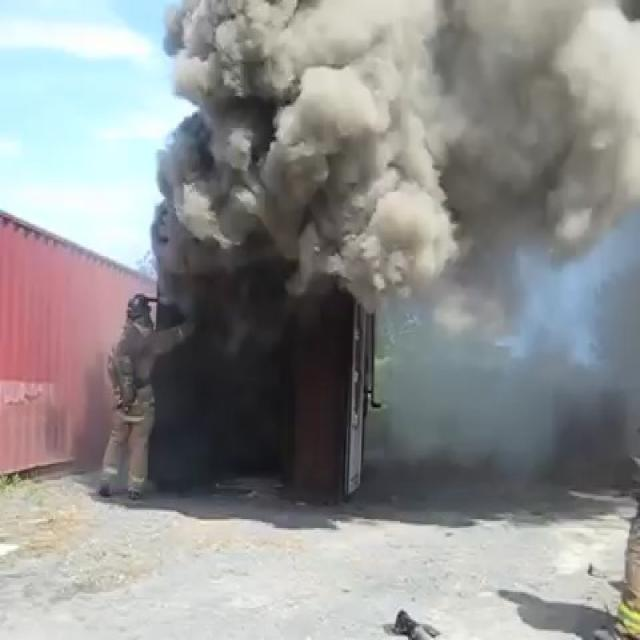Smoke: (147, 6, 633, 290)
